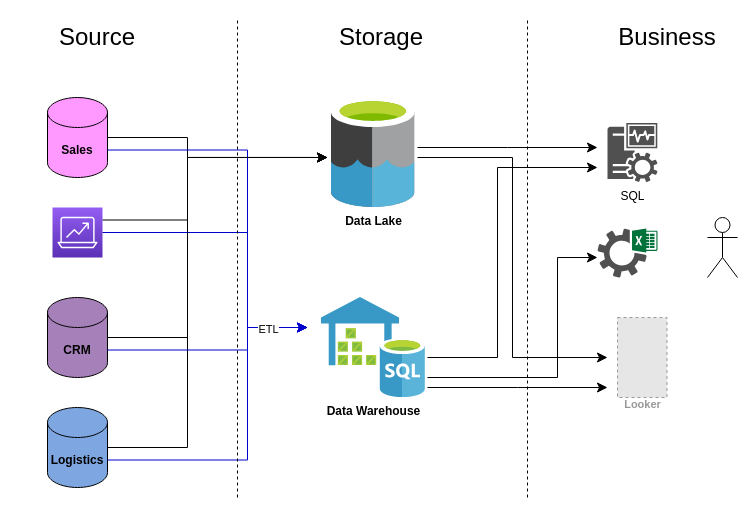
This 755x516 diagram has some shape labels left out. Grey dashed boxes stand in for pictures. Here are the shapes that lost their labels. From the top down, the centre of each, then its label:
At point 77,232: "Google Analytics API".
At point 627,252: "Excel".
At point 722,247: "User".
